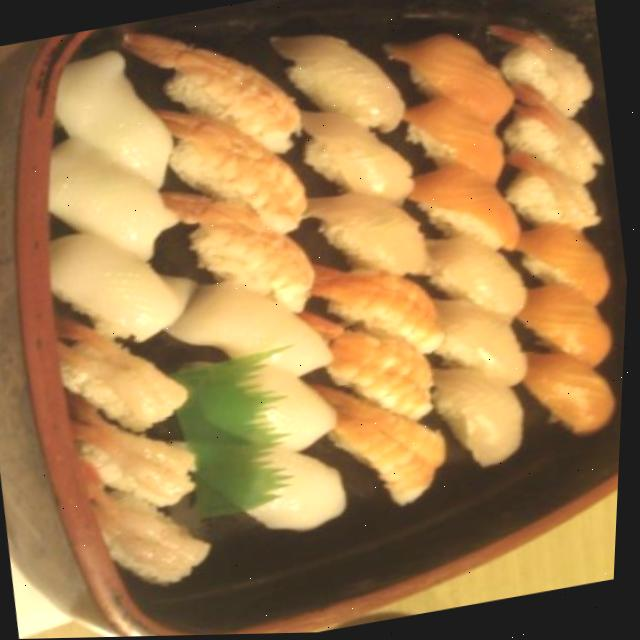寿司卷物: (5, 0, 640, 622)
